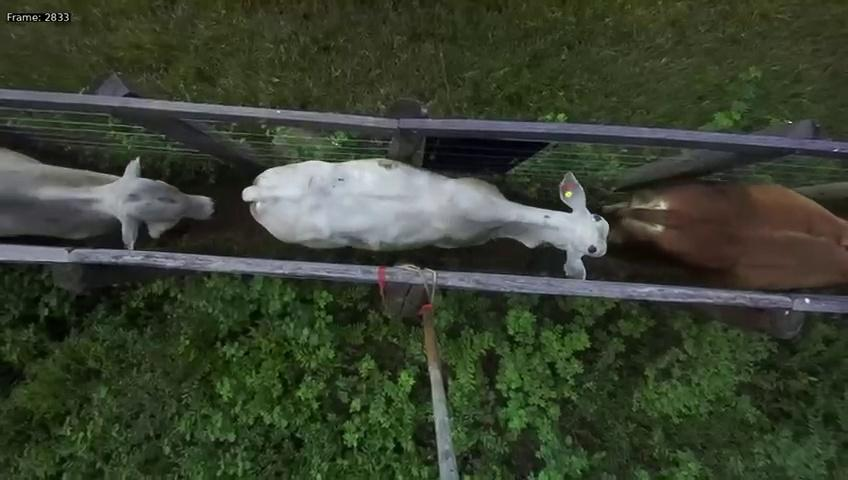cattle: (239, 128, 611, 279)
